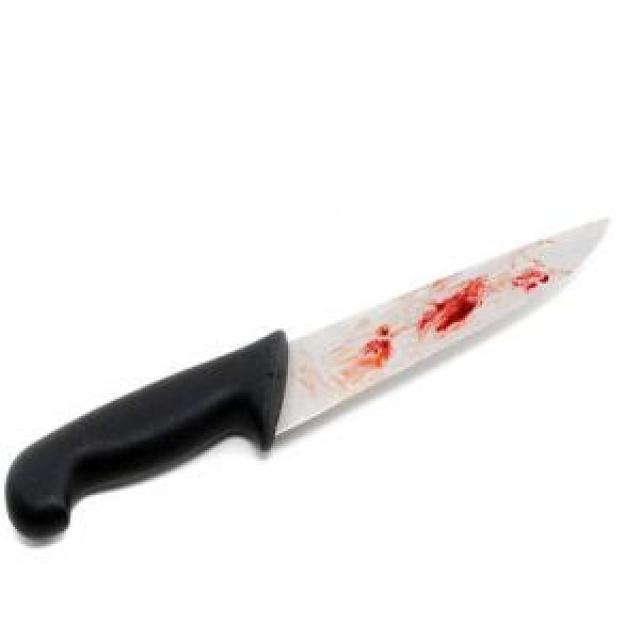knife: (6, 214, 612, 548)
